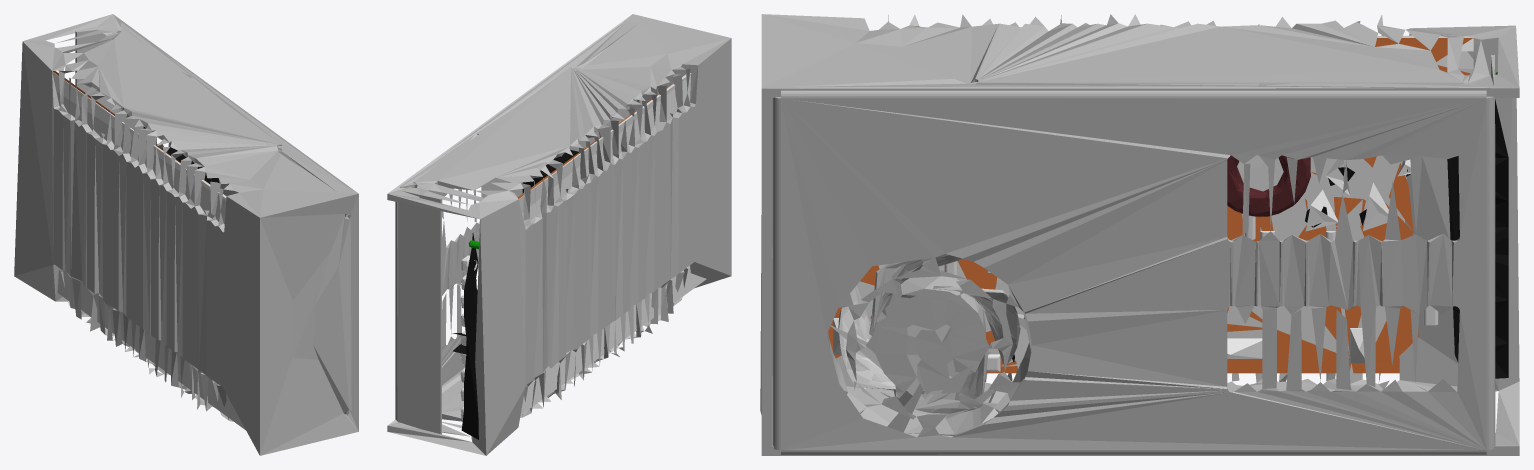
Rendered from psu-brick.glb.
3 views of the same model, side by side, from view 1: azimuth 30°, elevation 25°; view 2: azimuth 150°, elevation 25°; view 3: azimuth 270°, elevation 25° (orthographic). The views are drawn at different scales.
Parts seen in each view (by area): view 1: part1, part6; view 2: part1, part6, part3; view 3: part1, part6, part4, part3, part0, part2.
Part boxes in pixels (x1,y1,x2,y2): part1: [14, 14, 358, 455]; part6: [52, 71, 245, 430]; part1: [387, 14, 731, 455]; part6: [460, 64, 706, 419]; part3: [452, 149, 578, 439]; part1: [760, 14, 1519, 455]; part6: [833, 35, 1475, 371]; part4: [828, 38, 1472, 373]; part3: [1012, 99, 1508, 378]; part0: [842, 254, 1017, 408]; part2: [1227, 155, 1310, 216].
Size of the model in its own units: 0.0511 by 0.1152 by 0.2154.
